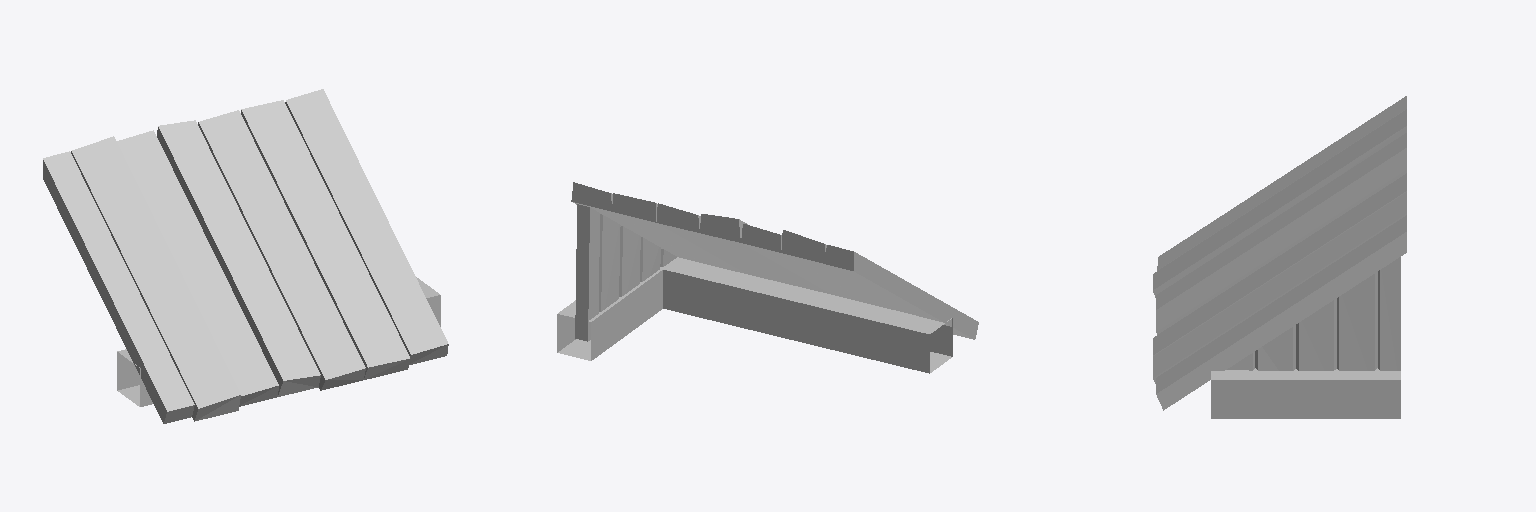
Rendered from Roof_Wooden_2x1_R.obj.
3 renders of one model, left to right at view 1: azimuth 30°, elevation 25°; view 2: azimuth 150°, elevation 25°; view 3: azimuth 270°, elevation 25°, orthographic.
Visible parts, largest first — view 1: Roof_Wooden_2x1_R; view 2: Roof_Wooden_2x1_R; view 3: Roof_Wooden_2x1_R.
Part boxes in pixels (bbox=[...]): Roof_Wooden_2x1_R: bbox=[43, 89, 448, 423]; Roof_Wooden_2x1_R: bbox=[557, 182, 978, 373]; Roof_Wooden_2x1_R: bbox=[1153, 96, 1406, 418].
Bounding box in the file's own units: 2.13 × 1.25 × 1.56.